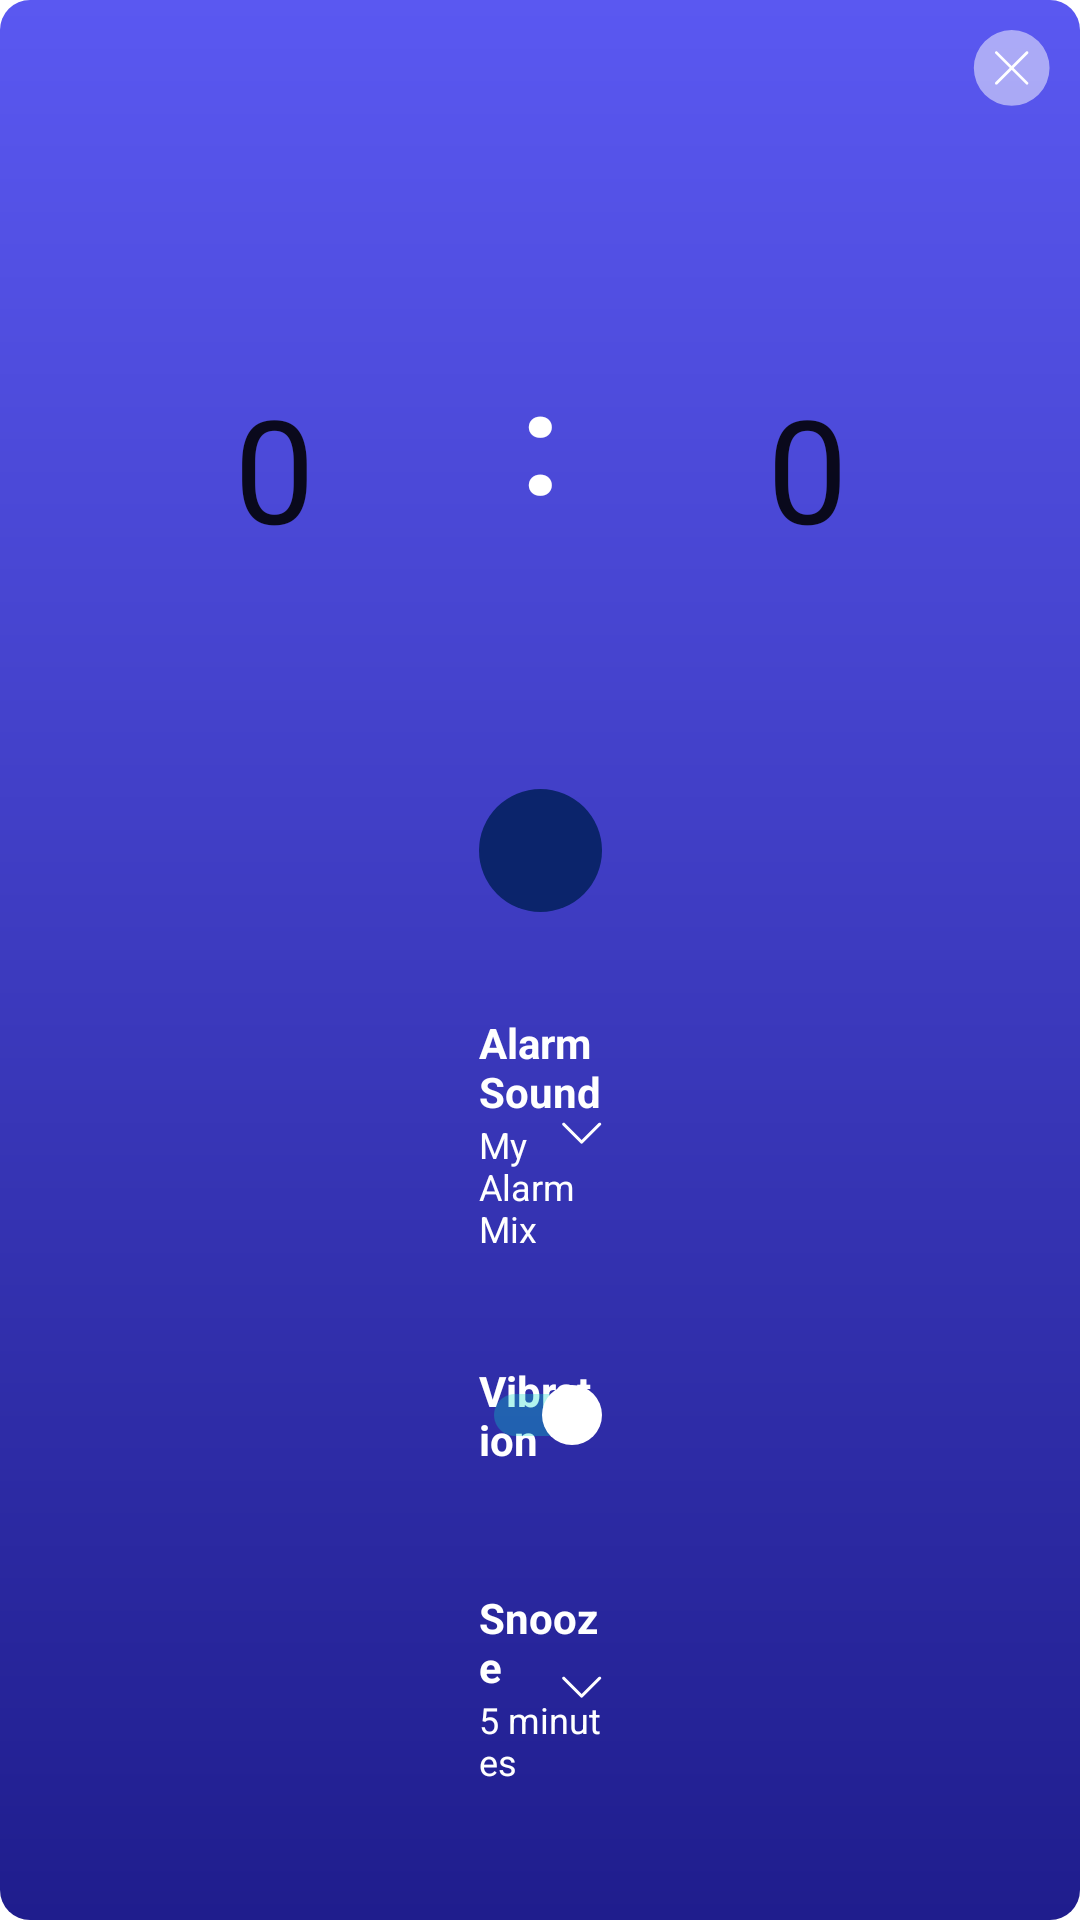

Icon click points for this 1080w x 1920h phone screenshot, format (x=x, y=y):
closedialog: (x=1012, y=68)
extend: (x=582, y=1133), (x=582, y=1687)
